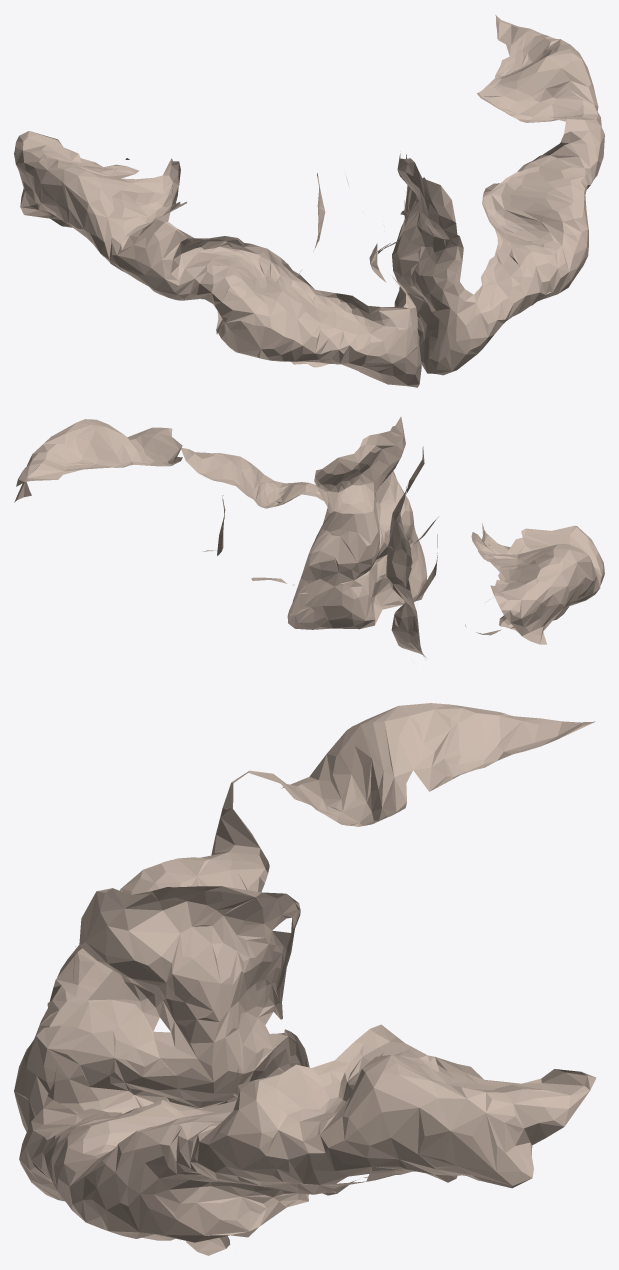
File: motor_cortex.glb
The picture shows the model from 3 angles, top to bottom: view 1: azimuth 30°, elevation 25°; view 2: azimuth 150°, elevation 25°; view 3: azimuth 270°, elevation 25°; orthographic projection. The views are drawn at different scales.
Visible parts, largest first — view 1: world; view 2: world; view 3: world.
Boxes of the visible parts, box(x1,y1,x2,y2) form: world: box(14, 15, 604, 387); world: box(14, 416, 604, 657); world: box(14, 703, 596, 1255).
Size of the model in its own units: 1.45 by 0.5469 by 0.8829.
